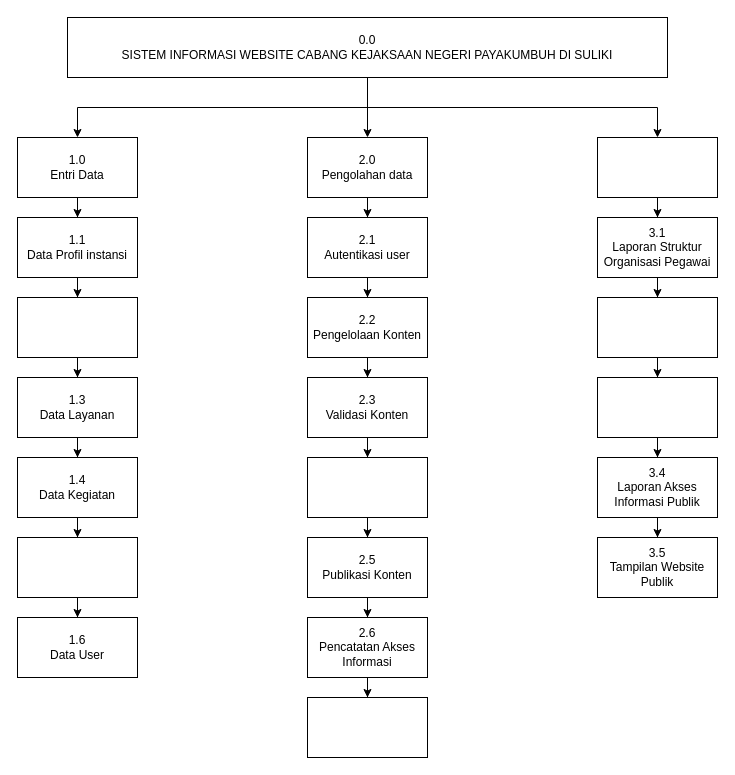
Some shapes in this 735 by 775 pixel diagram are drawn without their labels. The centre of each missing label's shape, as x and y in pixels:
1.2 Data Pegawai: (77,327)
1.5 Data Pengumuman: (77,567)
2.4 Pengelomokkan konten: (367,487)
2.7 Penyimpanan dan Pengarsipan Data: (367,727)
3.0 Laporan: (657,167)
3.2 Rekapitulasi Pengumuman Bulanan: (657,327)
3.3 Laporan Kegiatan Bulanan: (657,407)
